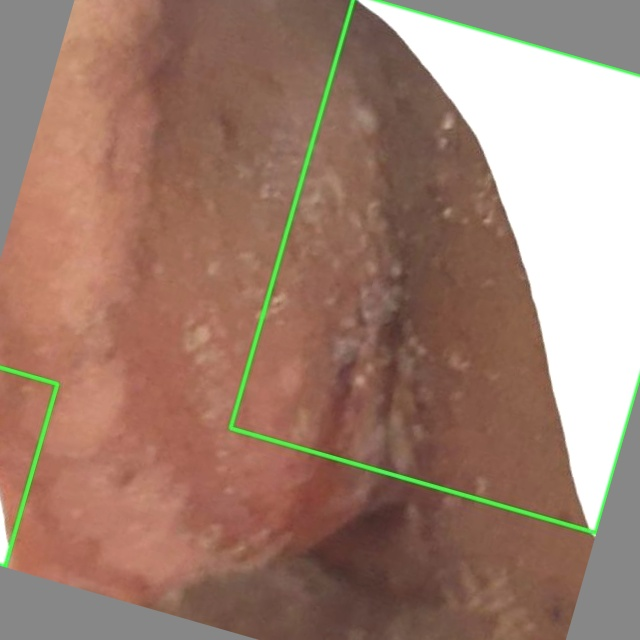Contact Dermatitis: (230, 0, 639, 532)
